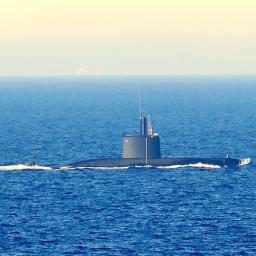submarine: (15, 114, 245, 165)
